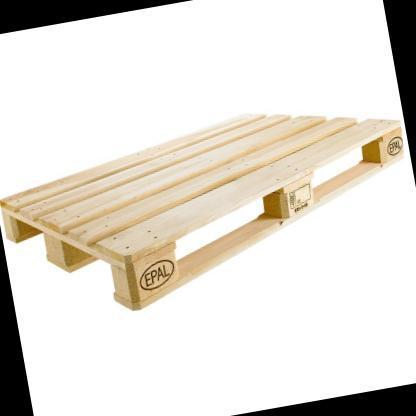pallet: (2, 112, 402, 307)
